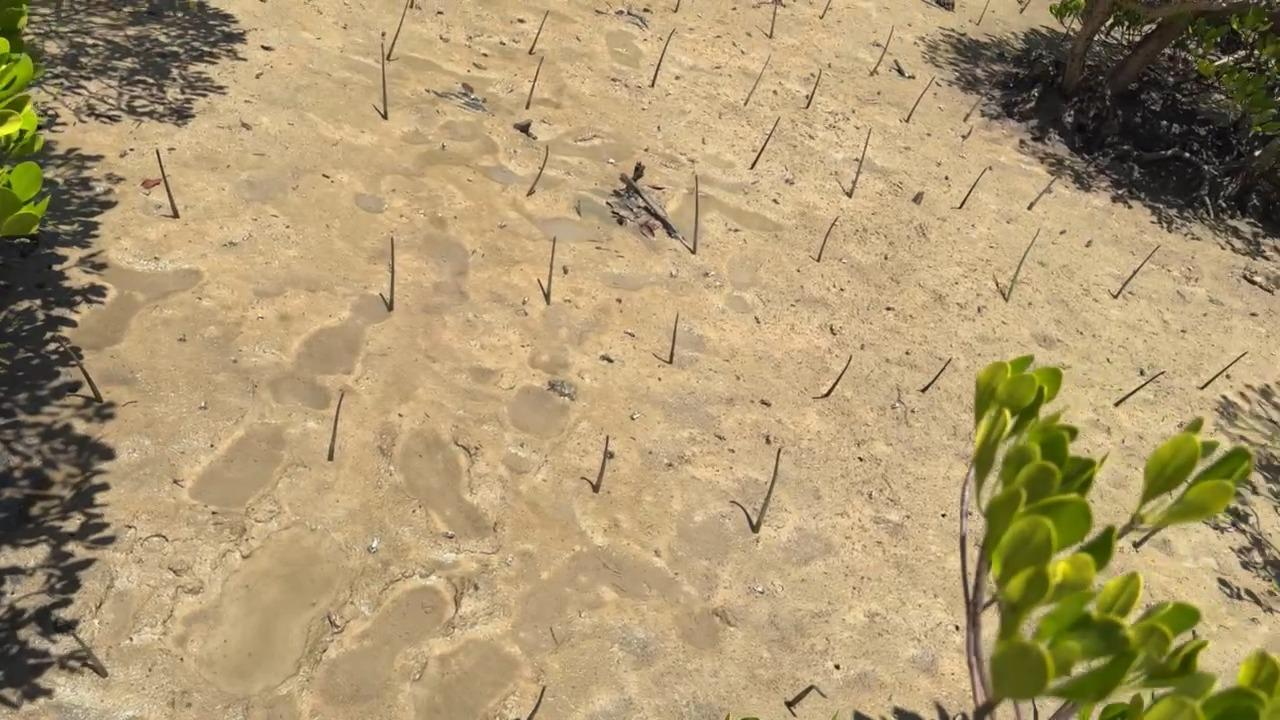Tree: (59, 339, 104, 405), (1114, 244, 1161, 300), (754, 448, 783, 533), (1006, 229, 1040, 301), (964, 68, 1006, 122), (1027, 164, 1071, 210), (69, 629, 108, 679), (1114, 370, 1164, 406), (1201, 353, 1248, 390), (156, 149, 180, 218), (849, 129, 871, 199), (751, 117, 779, 169), (744, 55, 772, 105), (905, 77, 935, 123), (385, 1, 409, 58), (652, 29, 675, 87), (958, 166, 989, 209), (526, 145, 549, 198), (871, 26, 895, 75), (825, 354, 852, 396), (922, 356, 952, 393), (328, 392, 344, 461), (785, 683, 828, 707), (818, 216, 840, 262), (593, 434, 610, 493), (526, 56, 544, 109), (529, 12, 548, 54), (380, 44, 390, 120), (546, 235, 556, 306), (526, 687, 547, 720), (806, 70, 821, 109), (693, 173, 700, 253), (387, 236, 394, 311), (669, 314, 678, 365), (770, 6, 778, 39), (978, 1, 989, 22), (821, 0, 833, 19), (1021, 0, 1030, 13), (675, 0, 680, 12)
